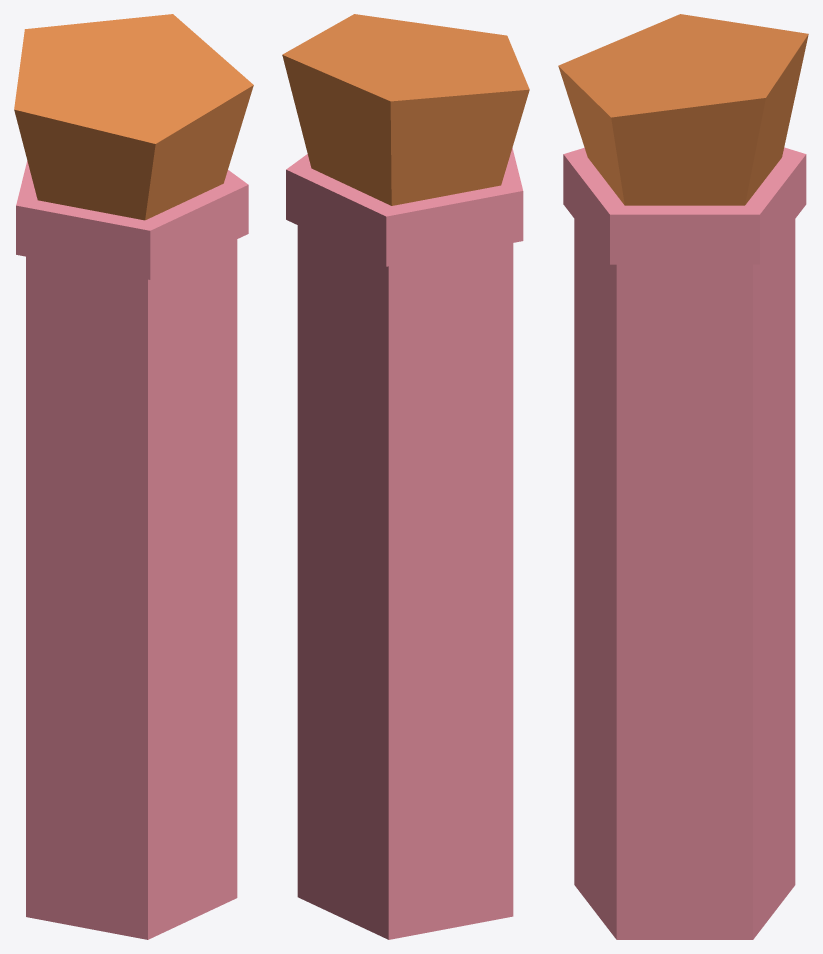
The model's file is Ampule_2.fbx.
The picture shows the model from 3 angles, left to right: view 1: azimuth 30°, elevation 25°; view 2: azimuth 150°, elevation 25°; view 3: azimuth 270°, elevation 25°; orthographic projection. The views are drawn at different scales.
Visible parts, largest first — view 1: Cube.009; view 2: Cube.009; view 3: Cube.009.
Boxes of the visible parts, x1,y1,x2,y2 form: Cube.009: (14,14,253,939); Cube.009: (282,14,529,939); Cube.009: (558,14,808,939).
Size of the model in its own units: 8.89 by 34.21 by 9.17.
